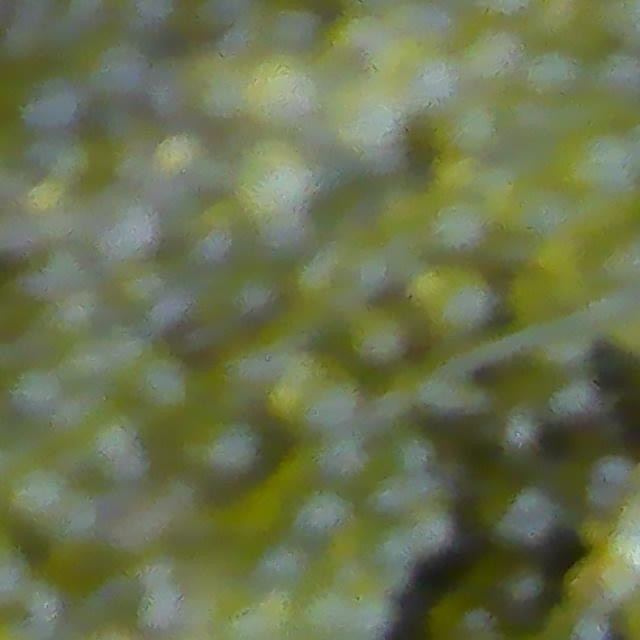SeaGrape: (231, 137, 320, 224), (241, 49, 326, 134), (180, 411, 267, 488), (417, 260, 493, 340), (75, 30, 152, 106), (128, 350, 199, 424), (254, 0, 325, 60), (96, 196, 158, 261), (496, 487, 555, 545)
